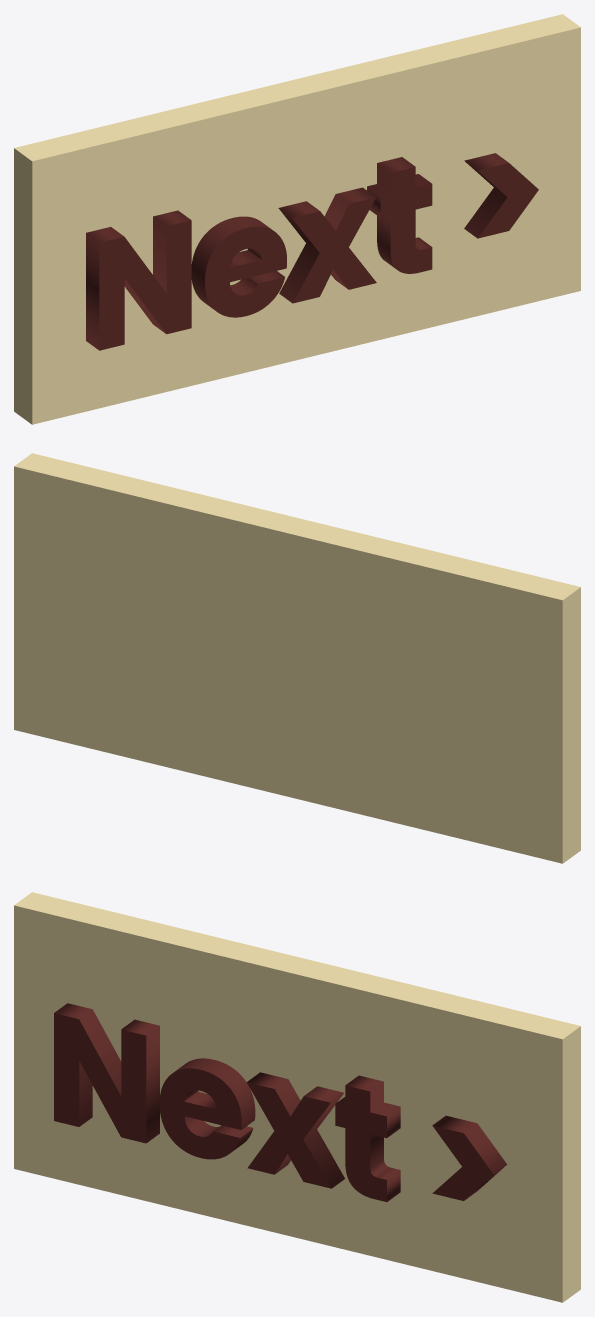
The model's file is nextButton.gltf.
The picture shows the model from 3 angles, top to bottom: view 1: azimuth 30°, elevation 25°; view 2: azimuth 150°, elevation 25°; view 3: azimuth 330°, elevation 25°; orthographic projection.
Visible parts, largest first — view 1: nextButton, Text; view 2: nextButton; view 3: nextButton, Text.
Part boxes in pixels (x1,y1,x2,y2): nextButton: (14,14,580,424); Text: (86,153,538,350); nextButton: (14,453,580,863); nextButton: (14,892,580,1302); Text: (54,1003,506,1201).
Size of the model in its own units: 2.18 by 1 by 0.2186.
